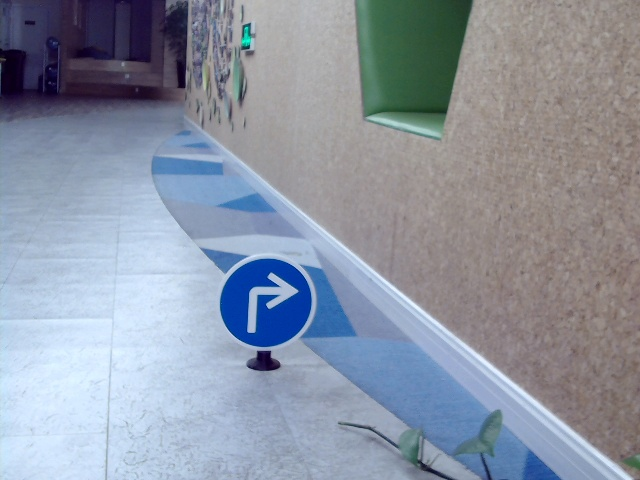turn_right: (241, 269, 295, 334)
